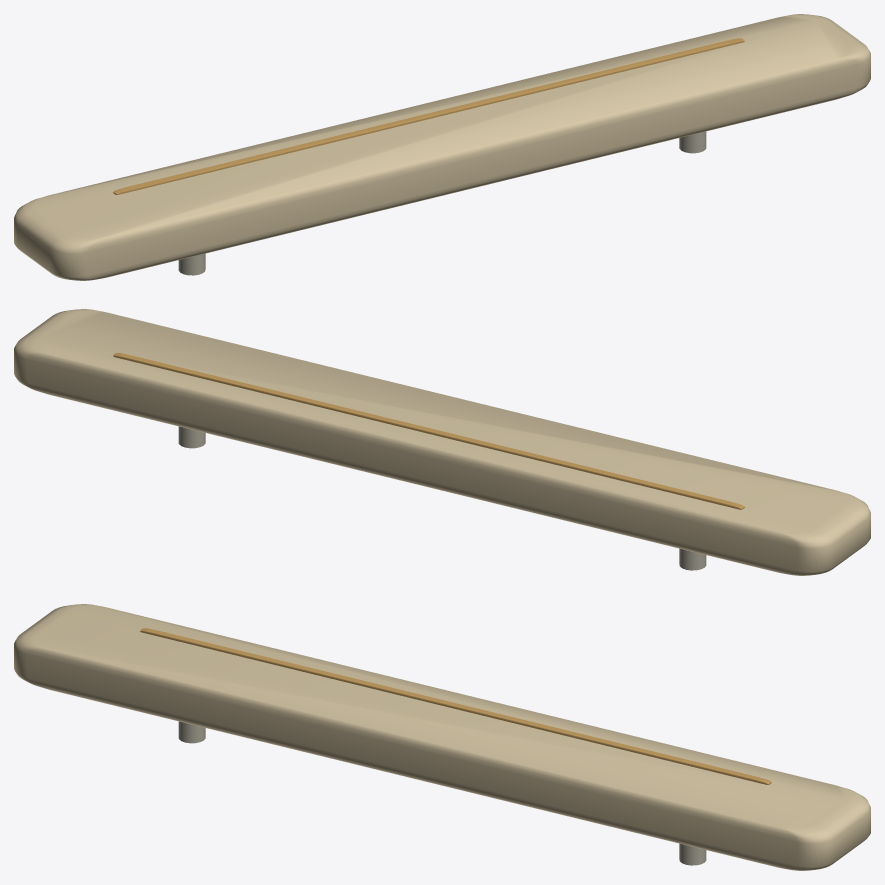
File: Executive.glb
The picture shows the model from 3 angles, top to bottom: view 1: azimuth 30°, elevation 25°; view 2: azimuth 150°, elevation 25°; view 3: azimuth 330°, elevation 25°; orthographic projection.
Visible parts, largest first — view 1: Space key, Grip rib; view 2: Space key, Grip rib; view 3: Space key, Grip rib.
Part boxes in pixels (left/top/right/bottom): Space key: left=14, top=14, right=870, bottom=280; Grip rib: left=113, top=38, right=744, bottom=194; Space key: left=14, top=309, right=870, bottom=575; Grip rib: left=113, top=353, right=744, bottom=509; Space key: left=14, top=604, right=870, bottom=870; Grip rib: left=140, top=628, right=771, bottom=784.
Bounding box in the file's own units: 2.94 × 0.288 × 0.3743.
